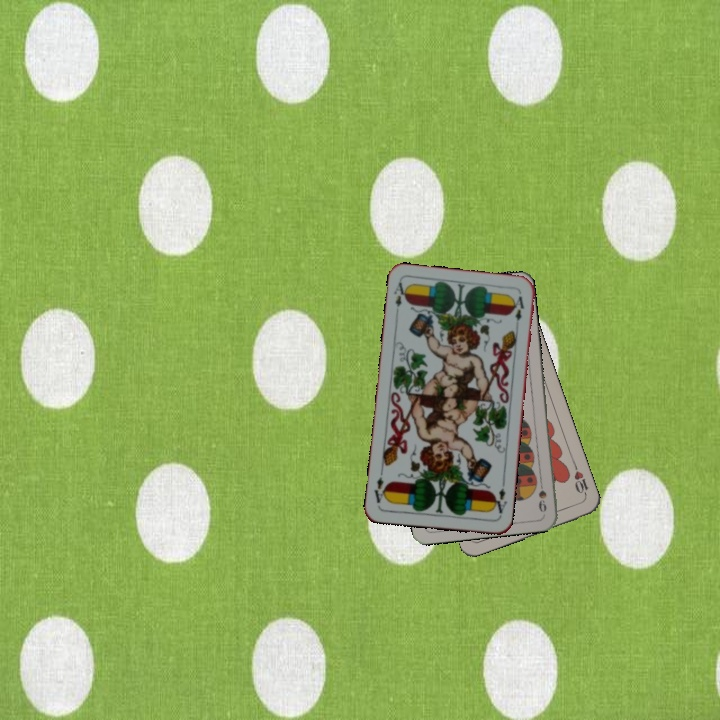EA: (390, 278, 410, 318), (489, 484, 509, 518)
H10: (570, 461, 591, 501)
S9: (534, 474, 549, 515)
